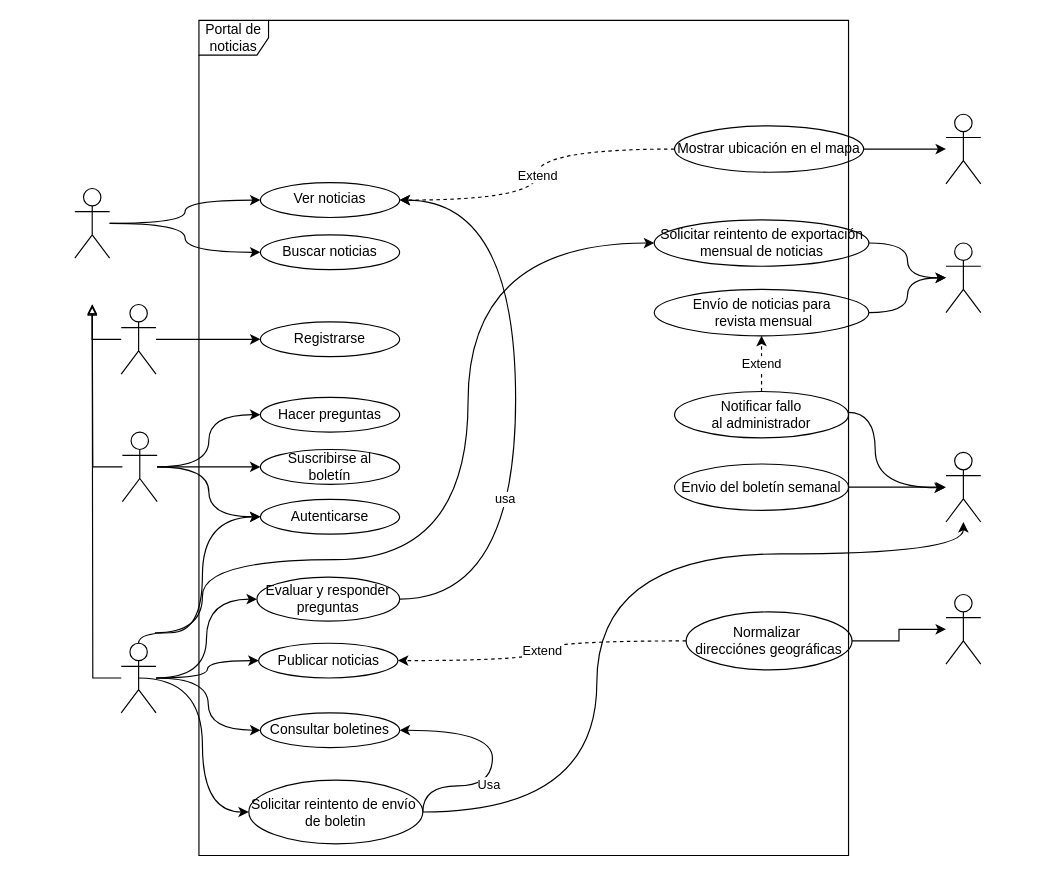
The diagram is 1060 pixels wide and 876 high, and some of its shapes have lost their labels. The shapes that lost their labels are listed below. From the top down, each one's centre as x and y in pixels, then its label:
At (x=963, y=148): "Servidor de visualización de mapas".
At (x=92, y=222): "Observador y buscador de noticias".
At (x=963, y=277): "Sistema externo PrintAllTheThings".
At (x=138, y=338): "Visitante".
At (x=139, y=466): "Vecino".
At (x=963, y=486): "Servicio de correo".
At (x=963, y=628): "Servicio de normalización de direcciones".
At (x=138, y=677): "Administrador".
